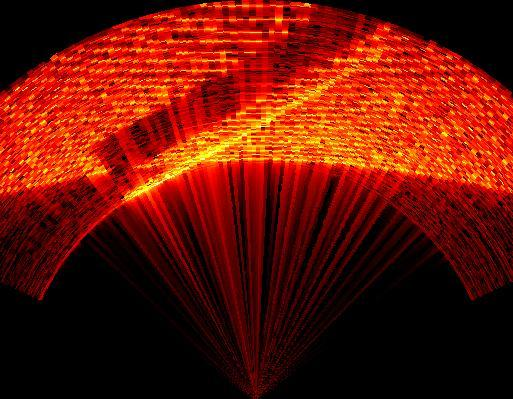pipe: (88, 12, 393, 202)
